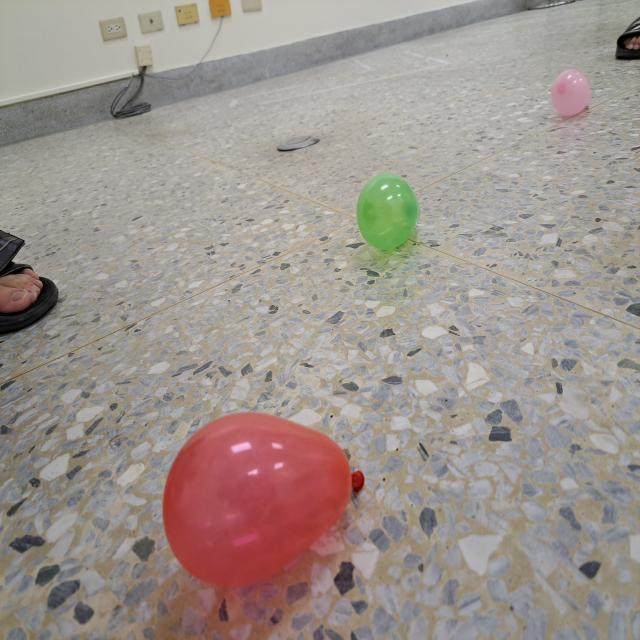other: (355, 171, 422, 251), (550, 67, 592, 119)
red: (162, 411, 366, 588)
